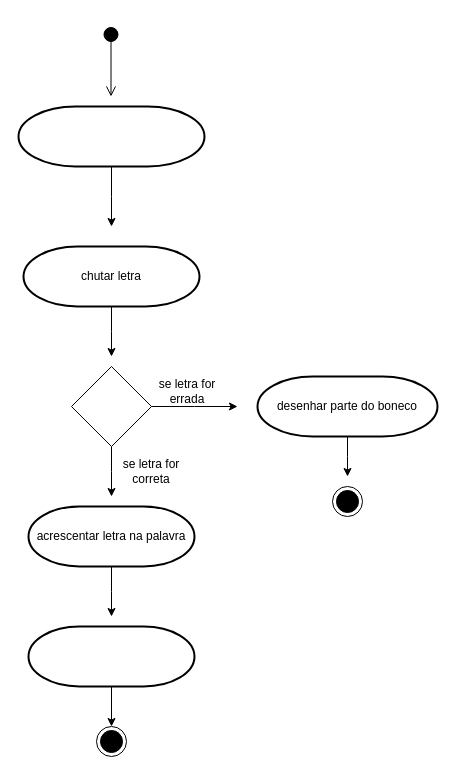
This 455x774 diagram has some shape labels left out. Here are the shapes that lost their labels. From the top down, the centre of each, then its label:
At (x=111, y=136): "gerar palavra aleatoria".
At (x=111, y=656): "formar palavra".
